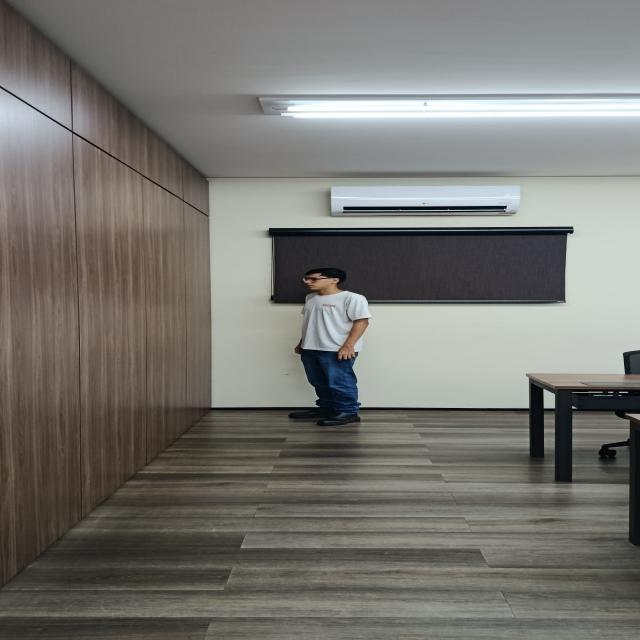oculos-epi: (303, 278, 334, 282)
